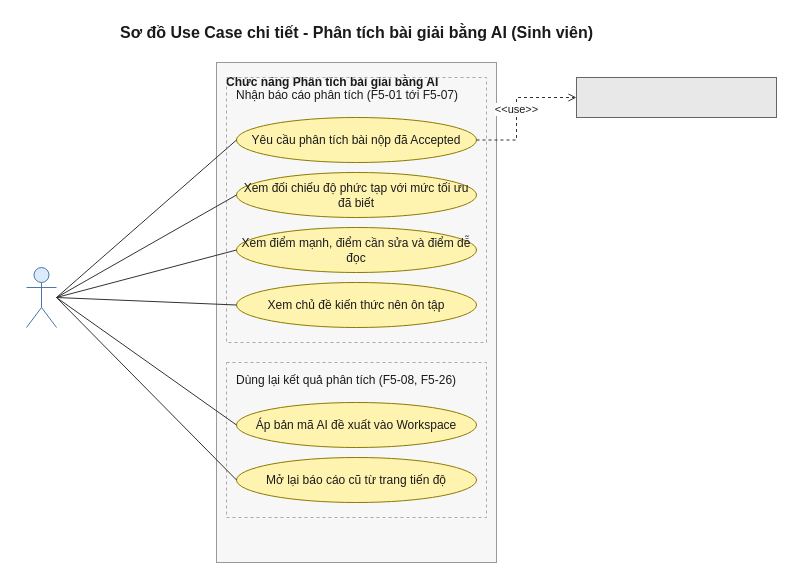
The diagram is 794 pixels wide and 580 high, and some of its shapes have lost their labels. Here are the shapes that lost their labels. From the top down, the centre of each, then its label:
pixel 676 97: Nhà cung cấp LLM
pixel 41 297: Sinh viên
